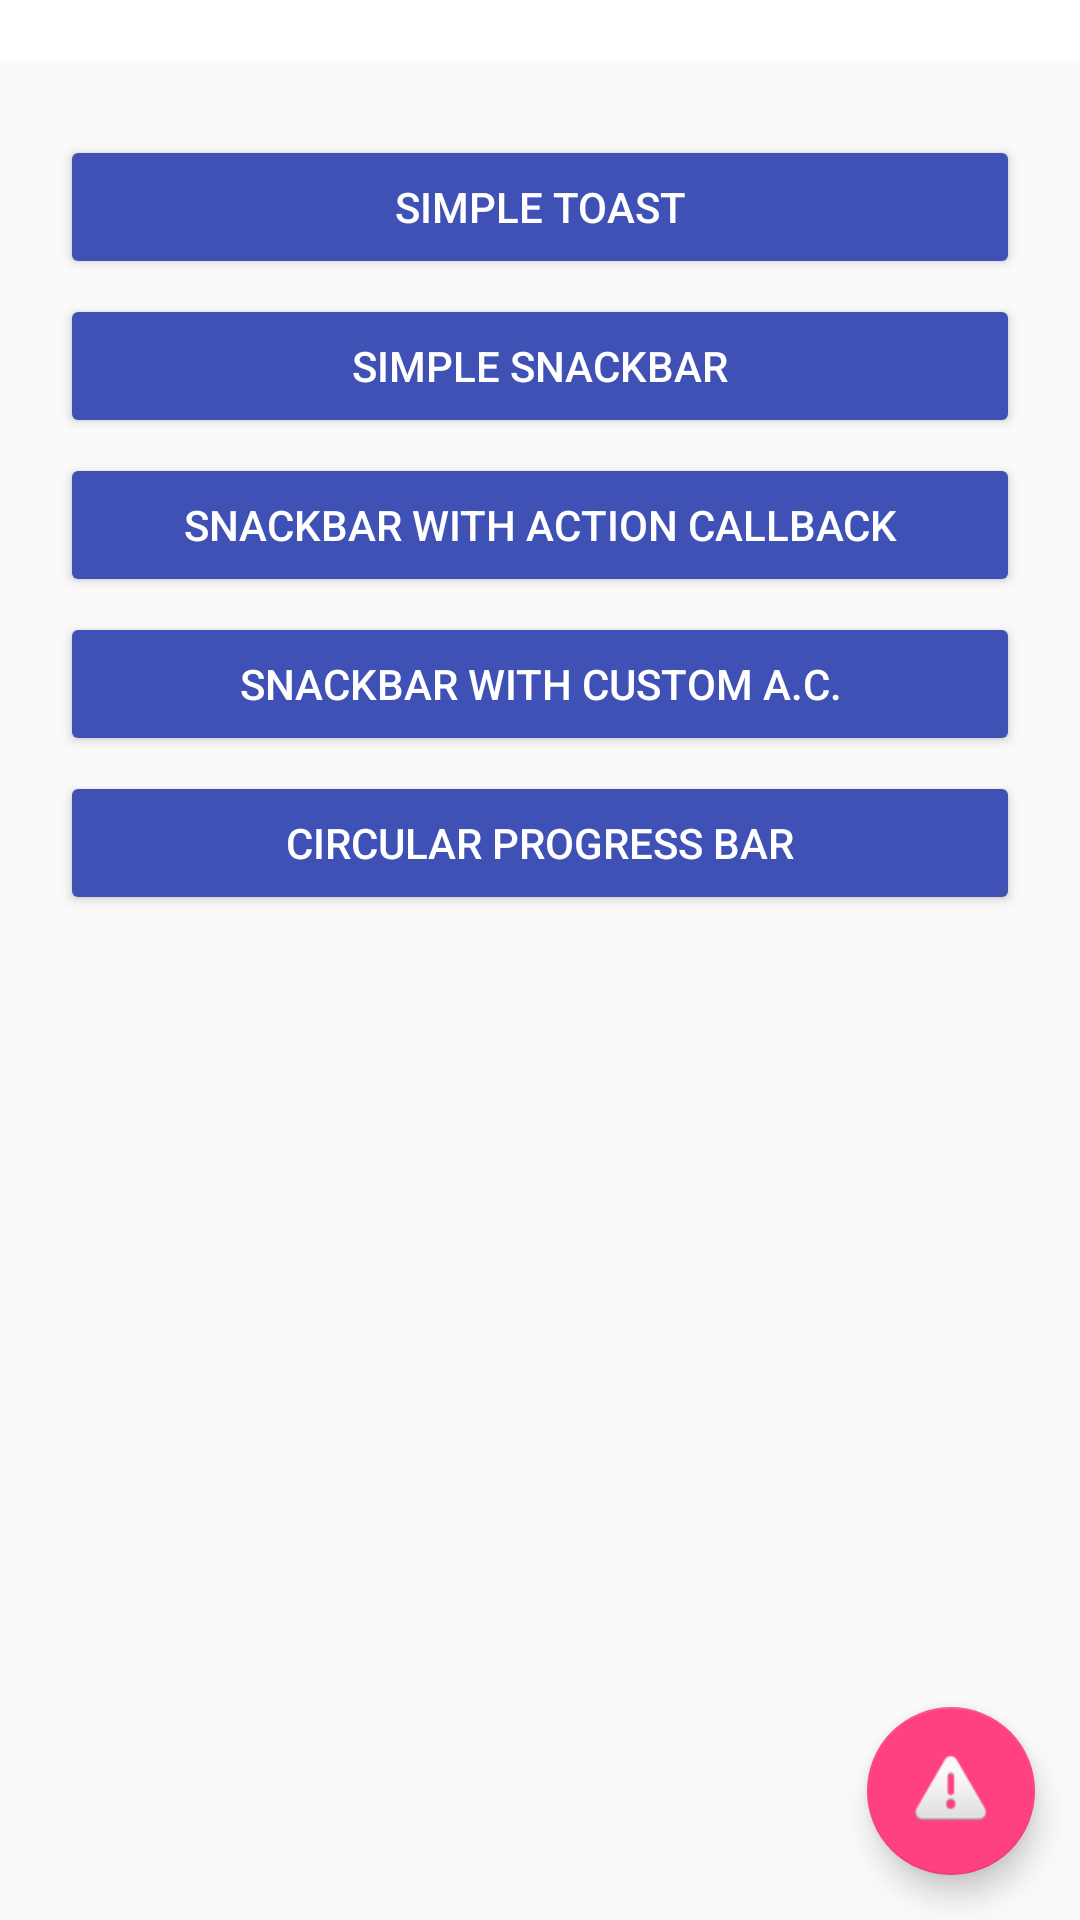

Where to tap for icons on this 1080px×1920px app screen, as point (x, y):
alert: point (951, 1791)
